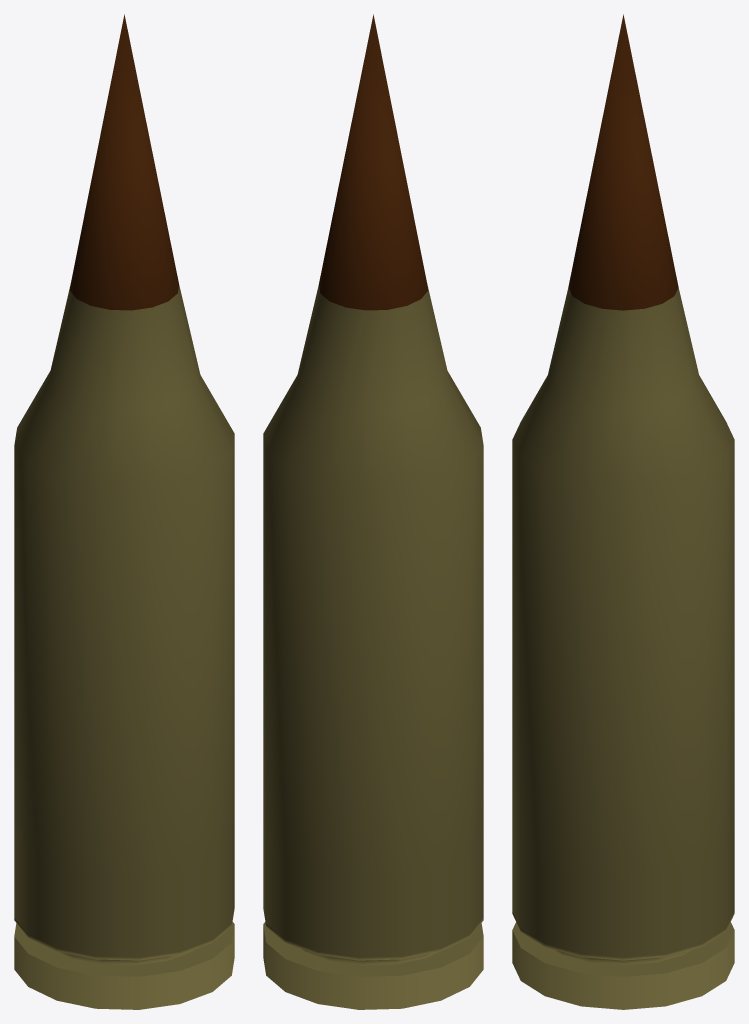
The model's file is rifle_bullet.fbx.
3 views of the same model, side by side, from view 1: azimuth 30°, elevation 25°; view 2: azimuth 150°, elevation 25°; view 3: azimuth 270°, elevation 25° (orthographic).
Parts seen in each view (by area): view 1: Cylinder; view 2: Cylinder; view 3: Cylinder.
Boxes of the visible parts, left/top/right/bottom form: Cylinder: left=14, top=14, right=234, bottom=1009; Cylinder: left=263, top=14, right=483, bottom=1009; Cylinder: left=512, top=14, right=734, bottom=1009.
Bounding box in the file's own units: 200 × 942 × 200.
